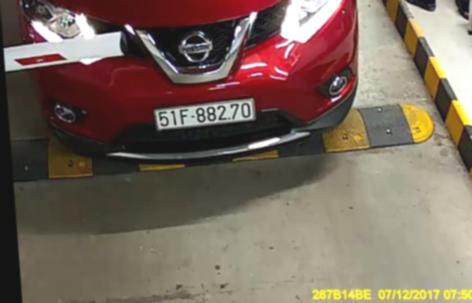License_Plate: (148, 98, 258, 132)
